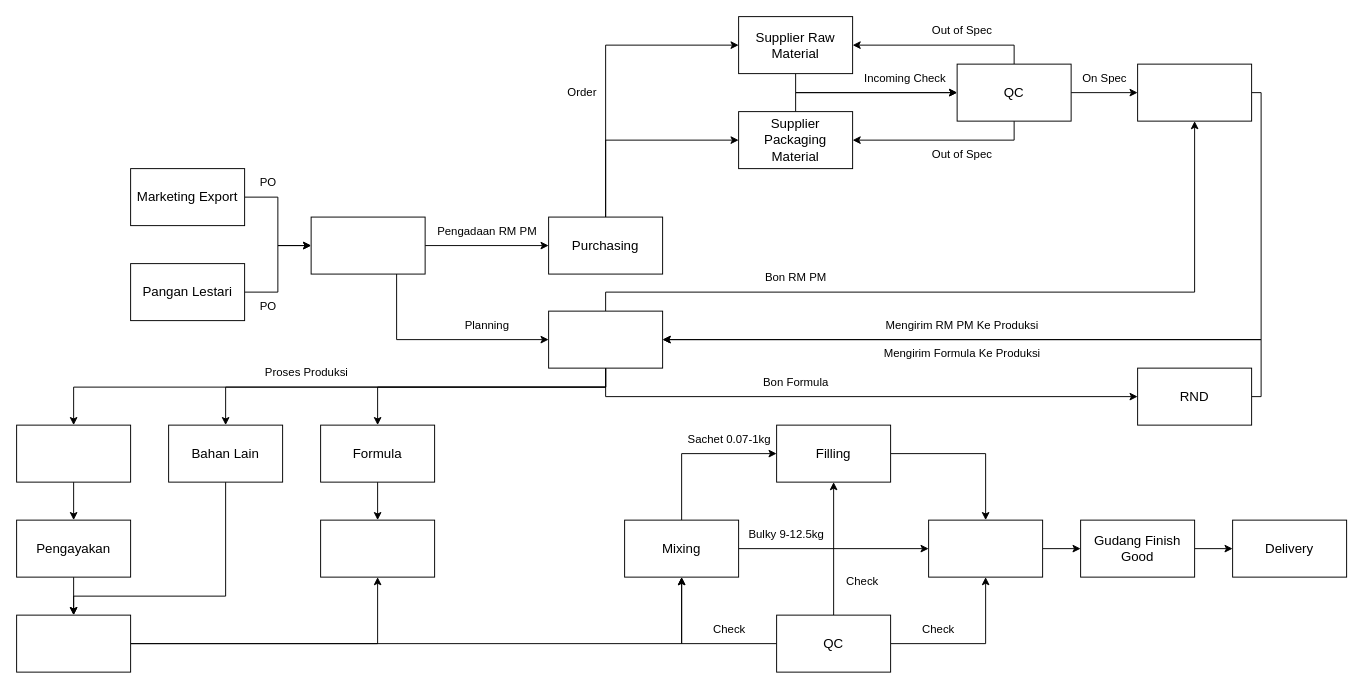
Some shapes in this 1363 by 689 pixel diagram are drawn without their labels. Each missing label, with the box of its shape:
Gudang RM PM: (1137, 63, 1252, 121)
Packing: (928, 519, 1043, 577)
Penimbangan: (16, 614, 131, 672)
PPIC: (310, 216, 425, 274)
Produksi: (548, 310, 663, 368)
Supermixer: (320, 519, 435, 577)
Tepung, Garam, Miwon: (16, 424, 131, 482)
